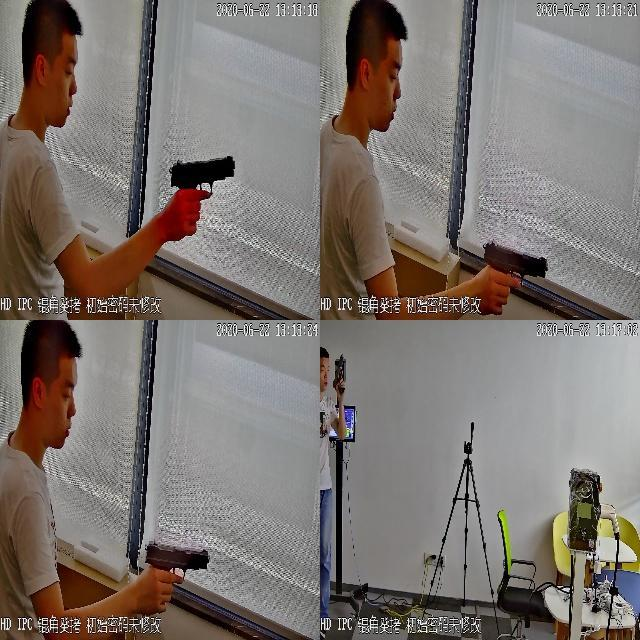gun-knife-thesis - v11 Yolov5 augmented: (161, 145, 237, 236), (472, 234, 547, 307), (136, 532, 206, 604), (330, 351, 345, 395)
